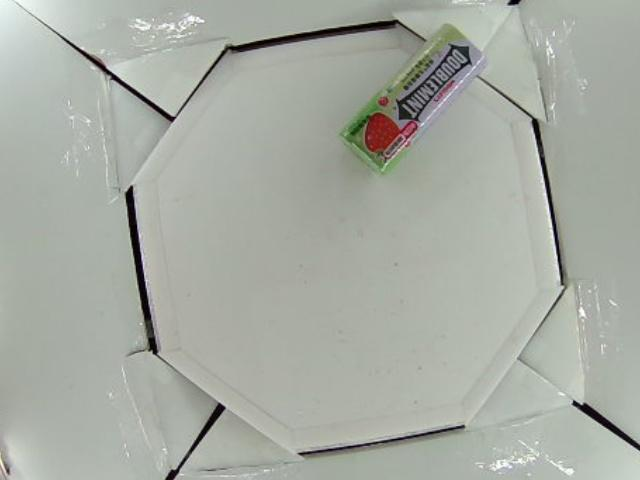Bottle: (343, 24, 489, 173)
